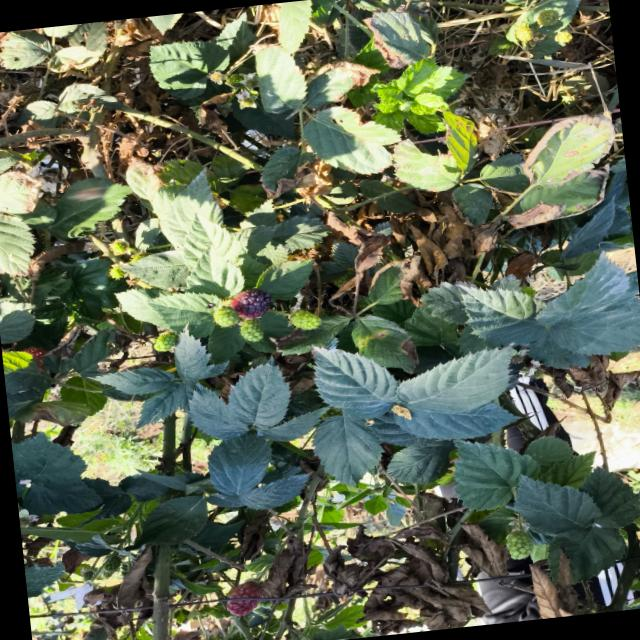marron: (231, 288, 270, 318)
verde: (290, 310, 321, 329), (213, 307, 239, 327), (153, 331, 179, 351), (240, 319, 263, 341)
